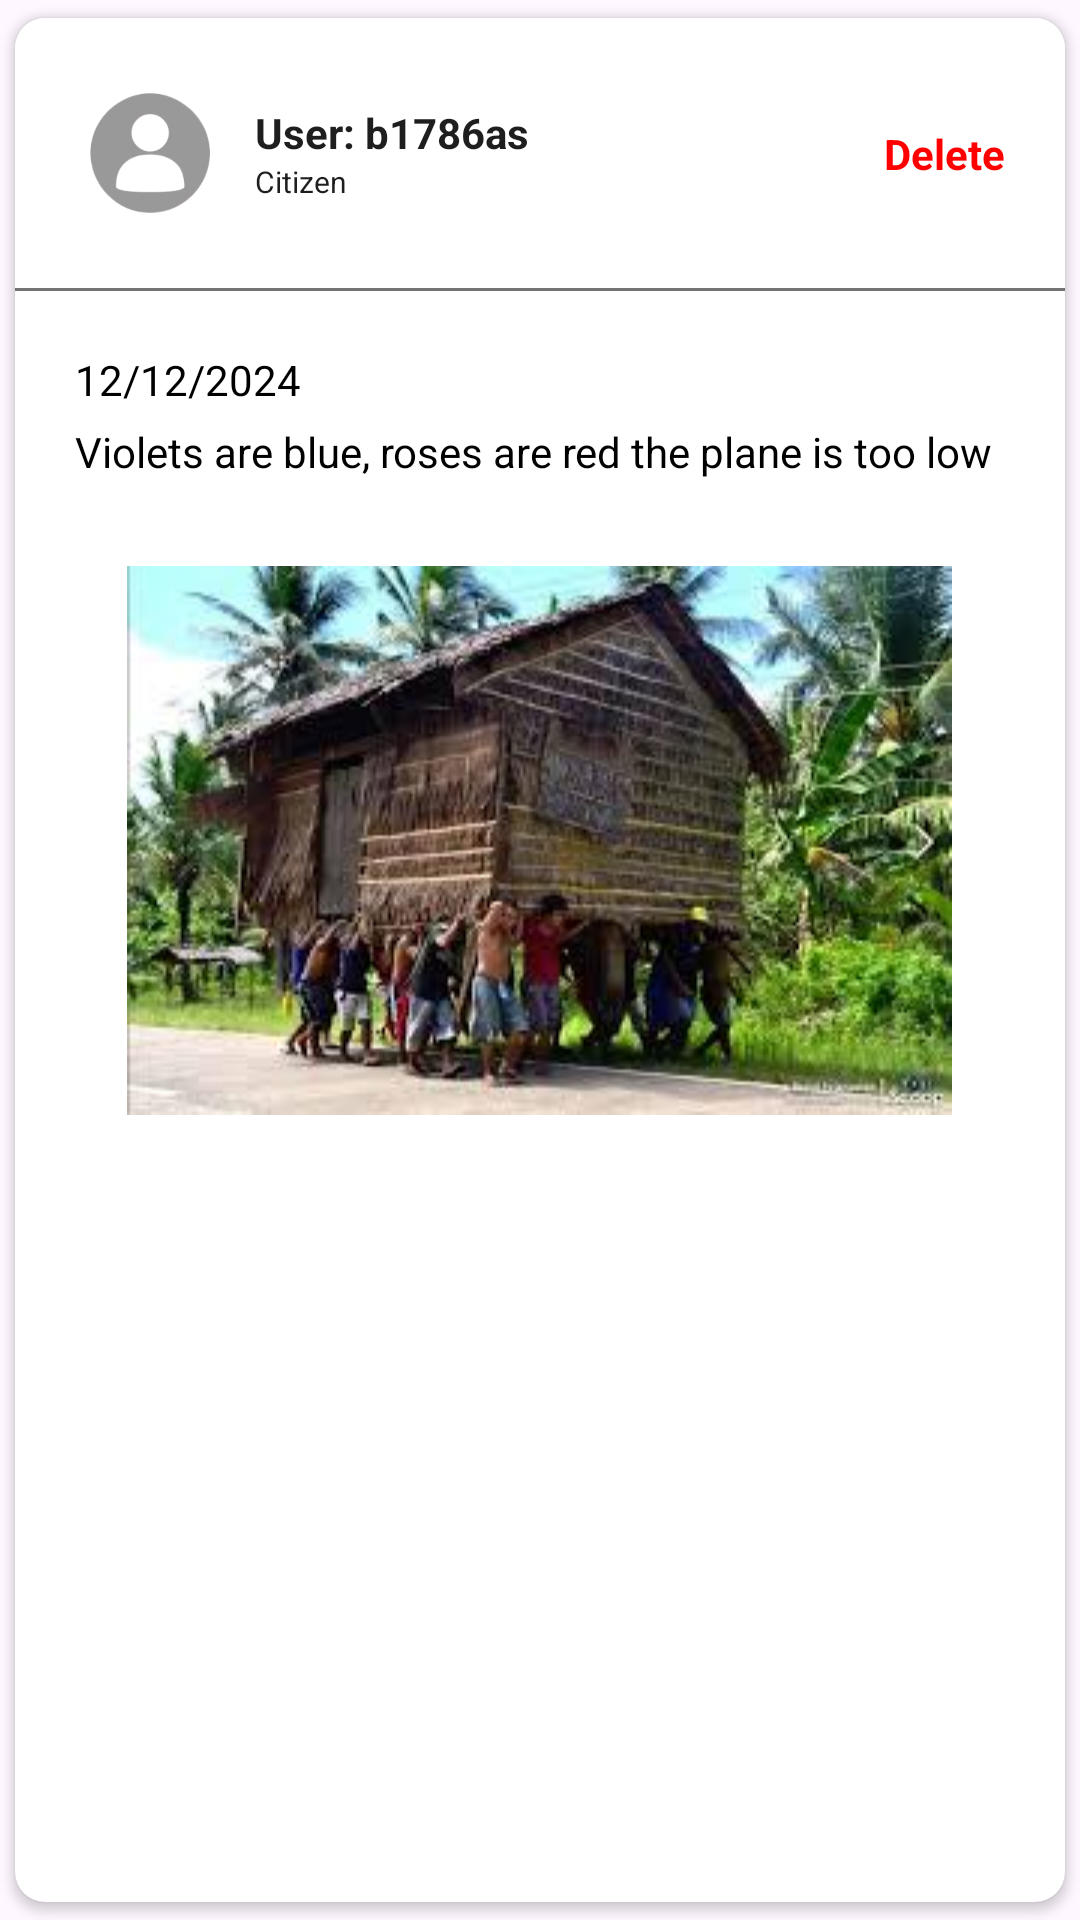

Where icons sit on this 1080x1920 app screen, as (x1, y1, x2, y2):
anonymous: (90, 93, 210, 213)
